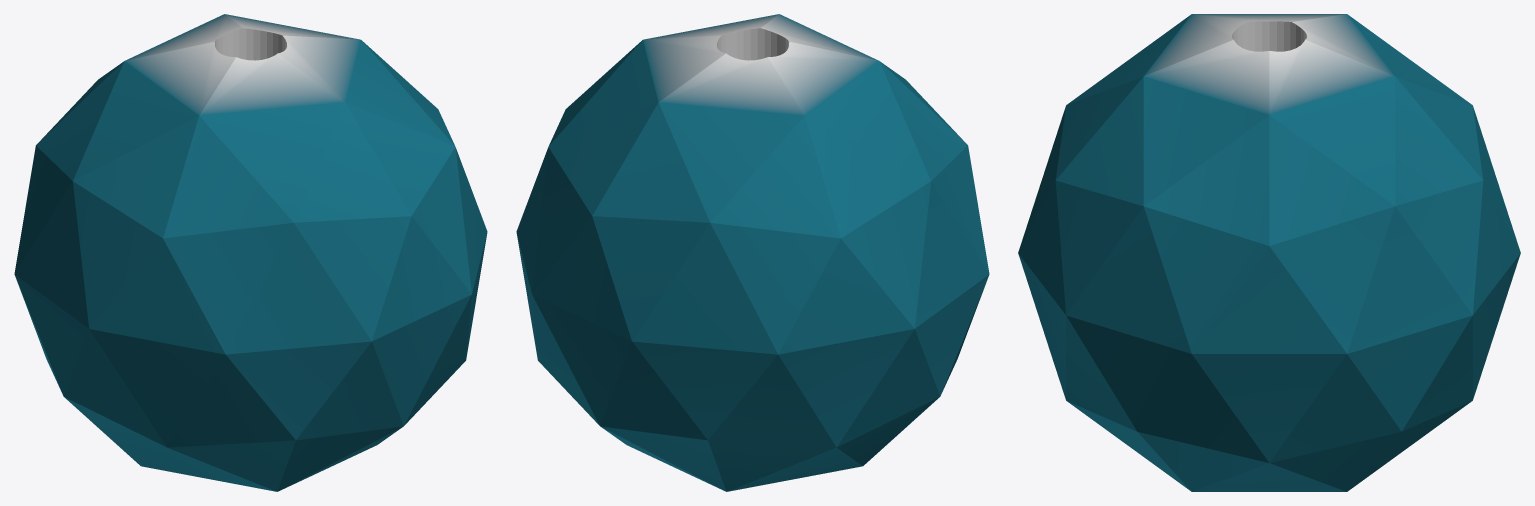
File: diamond-cut.glb
3 views of the same model, side by side, from view 1: azimuth 30°, elevation 25°; view 2: azimuth 150°, elevation 25°; view 3: azimuth 270°, elevation 25° (orthographic). The views are drawn at different scales.
Parts seen in each view (by area): view 1: diamond-cut; view 2: diamond-cut; view 3: diamond-cut.
Boxes of the visible parts, left/top/right/bottom form: diamond-cut: left=14, top=14, right=487, bottom=491; diamond-cut: left=516, top=14, right=989, bottom=491; diamond-cut: left=1018, top=14, right=1520, bottom=491.
Size of the model in its own units: 0.00761 by 0.00766 by 0.008.
